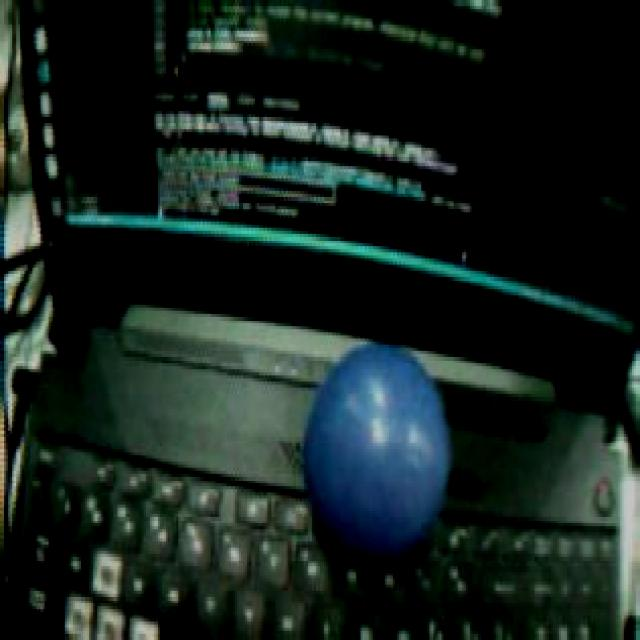BallPurple: (301, 341, 451, 567)
